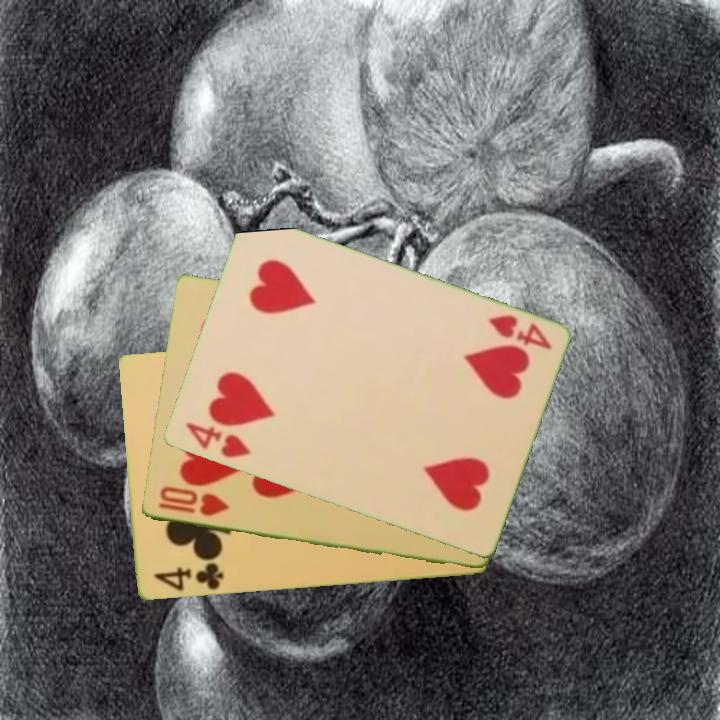10h: (154, 483, 232, 520)
4c: (150, 559, 226, 594)
4h: (182, 419, 253, 461), (484, 311, 554, 353)
